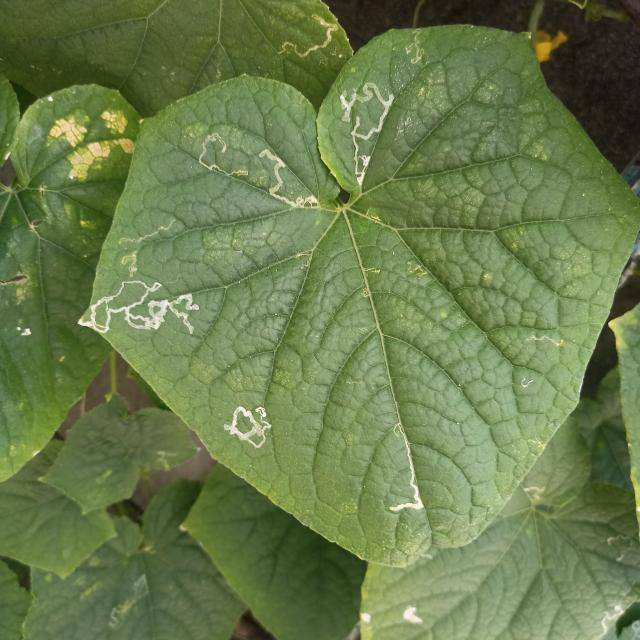disease_cucumber: (49, 109, 136, 180)
